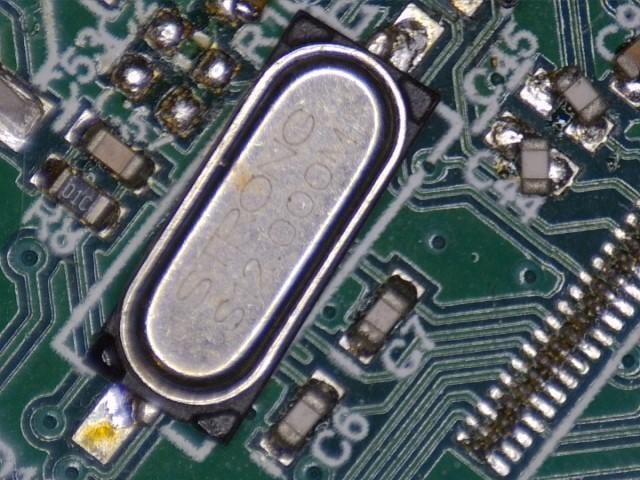Incorrect_installation: (73, 2, 446, 466), (519, 64, 616, 153), (485, 111, 581, 197), (609, 37, 640, 110)
